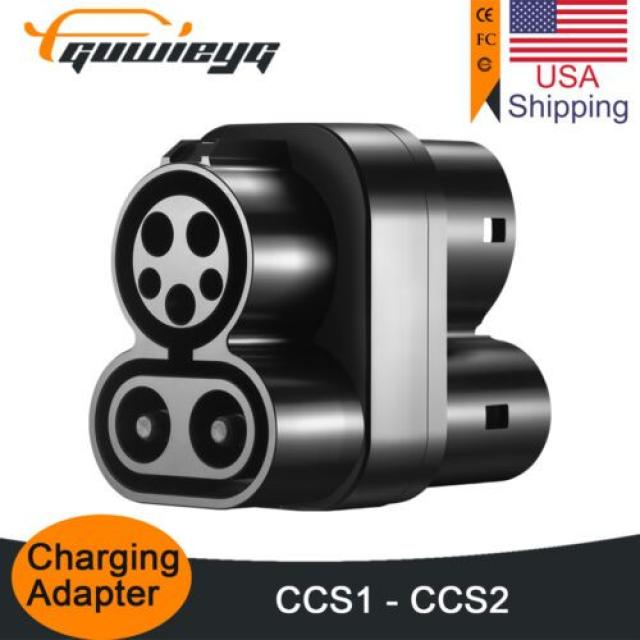CCS1: (111, 138, 274, 506)
